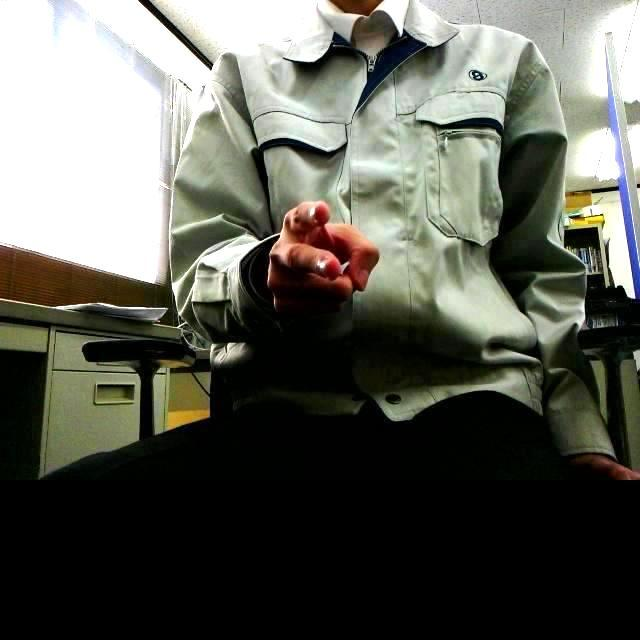tyoki: (266, 199, 379, 318)
